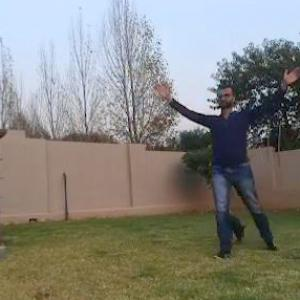takeoff: (172, 84, 299, 260)
